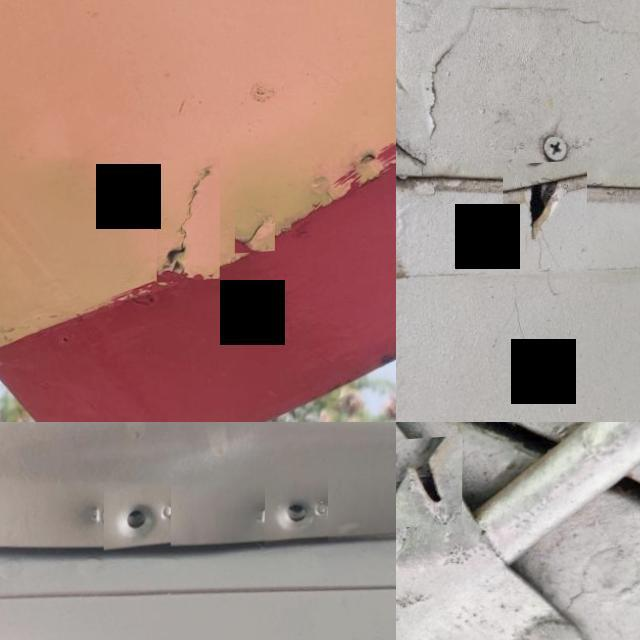Crack: (503, 164, 588, 274), (157, 160, 221, 286), (396, 442, 463, 534), (236, 212, 276, 258)
Missing_Fastener: (104, 488, 172, 554), (266, 484, 328, 552)
